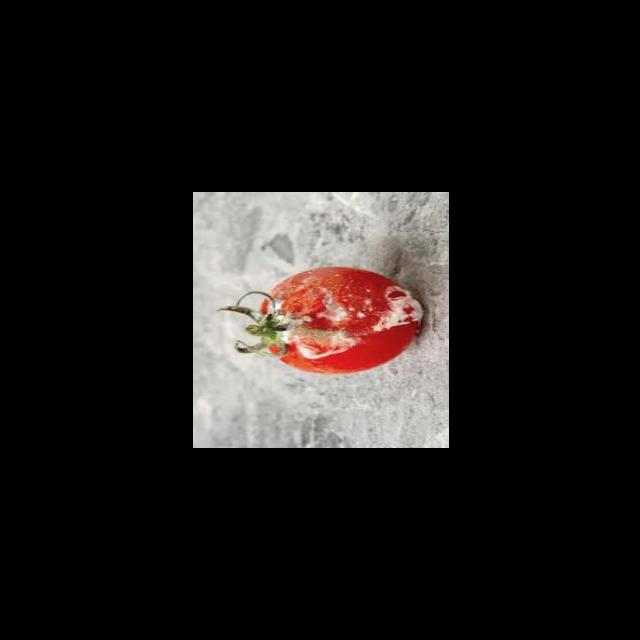tomato: (232, 259, 429, 383)
